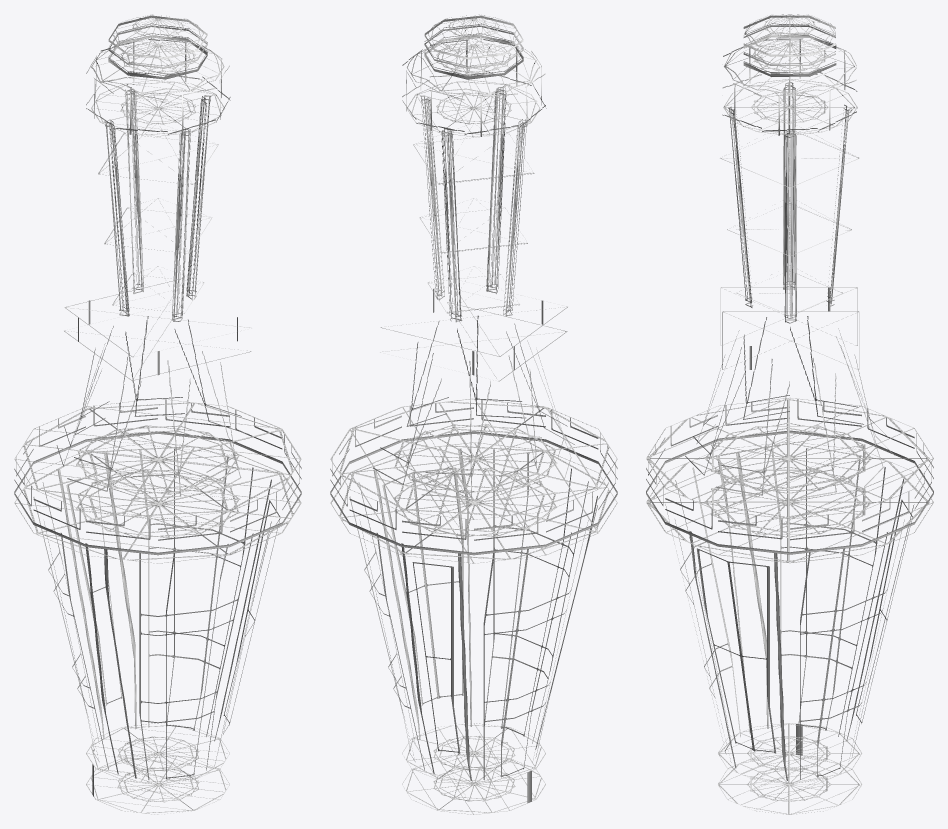
Rendered from steamPin.fbx.
3 renders of one model, left to right at view 1: azimuth 30°, elevation 25°; view 2: azimuth 150°, elevation 25°; view 3: azimuth 270°, elevation 25°, orthographic.
Parts seen in each view (by area): view 1: SteamPin; view 2: SteamPin; view 3: SteamPin.
Boxes of the visible parts, <box> form: SteamPin: <box>14,14,301,814</box>; SteamPin: <box>330,14,617,814</box>; SteamPin: <box>646,14,933,814</box>.
Bounding box in the file's own units: 2.49 × 7.31 × 2.49.
